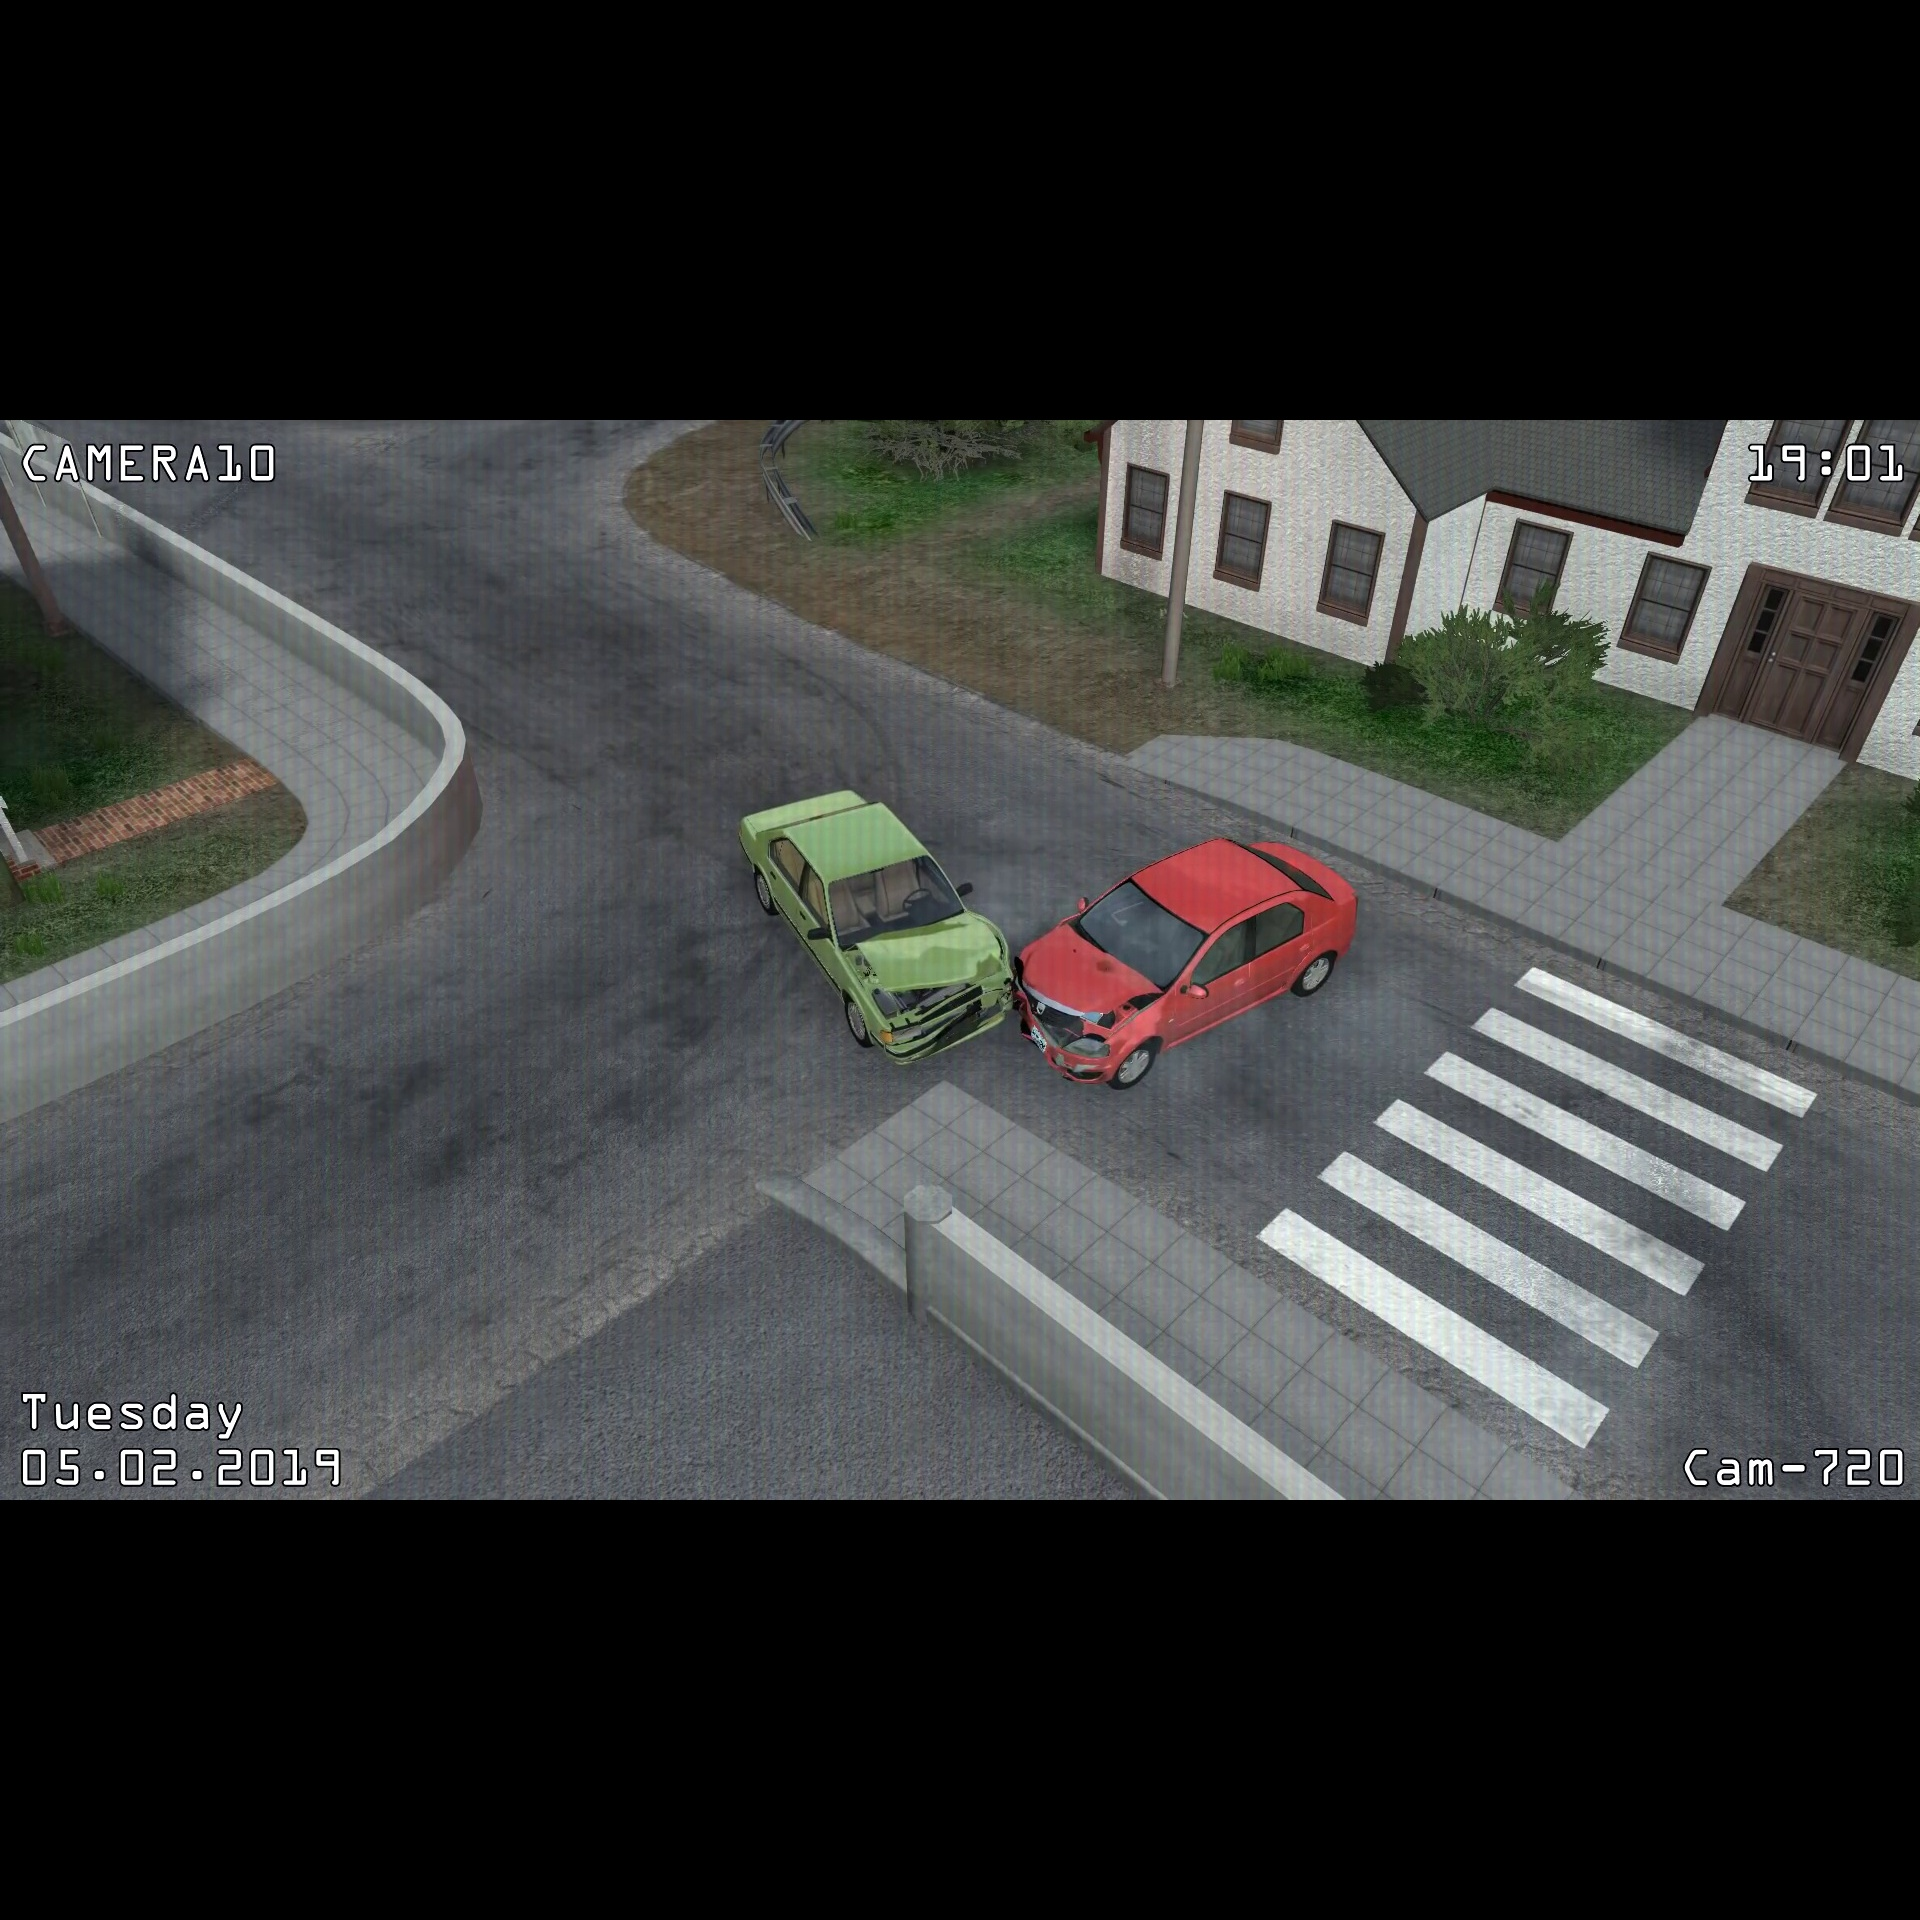vehicle: (1013, 828, 1373, 1090), (726, 777, 1015, 1080)
